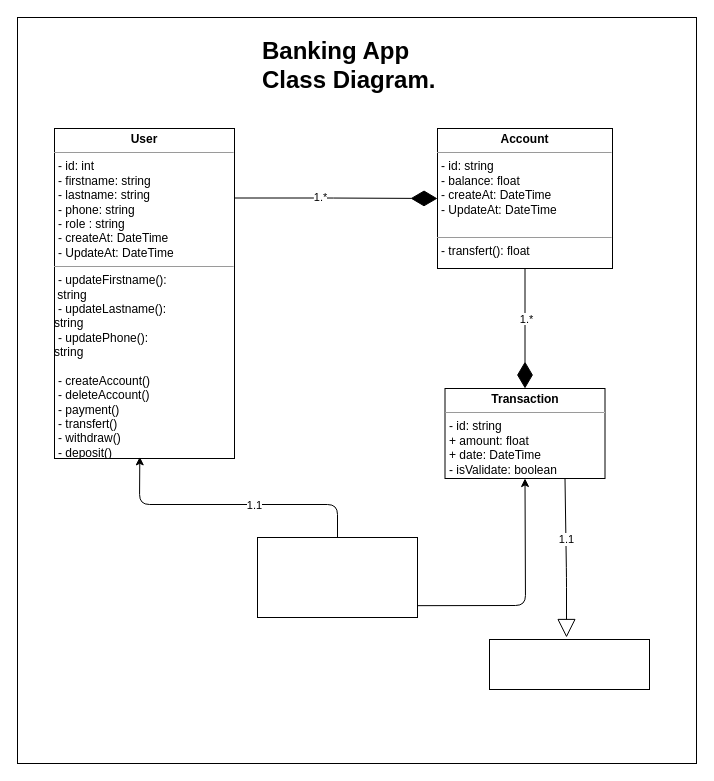
The diagram is 714 pixels wide and 781 high, and some of its shapes have lost their labels. The shapes that lost their labels are listed below. From the top down, each one's box as (x1, y1, x2, y2) in pixels, then its label:
(256, 536, 418, 618): Admin id: int - validateAction()
(488, 638, 650, 690): Transactions History - id: string
